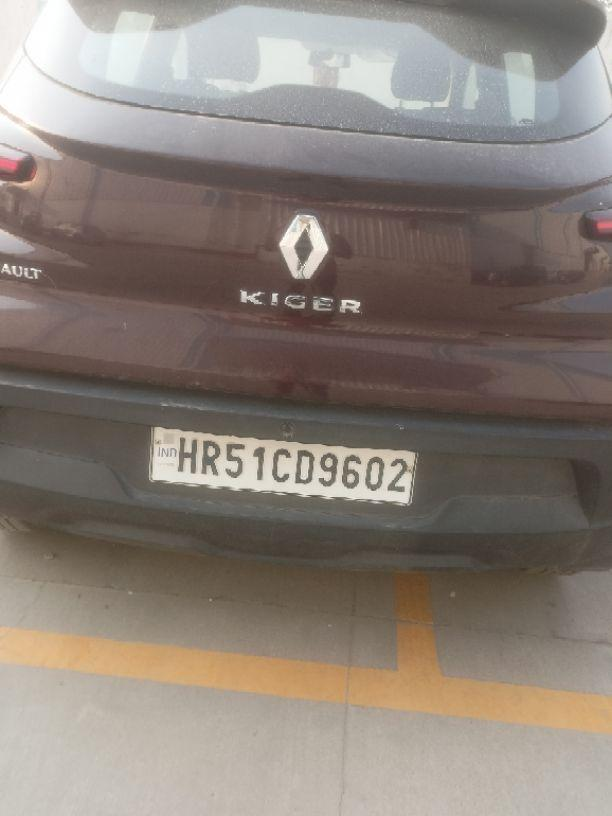license_plate: (146, 424, 419, 507)
